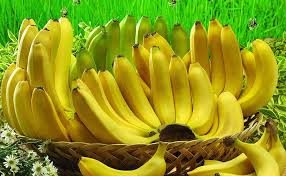looks_good: (5, 21, 85, 149)
